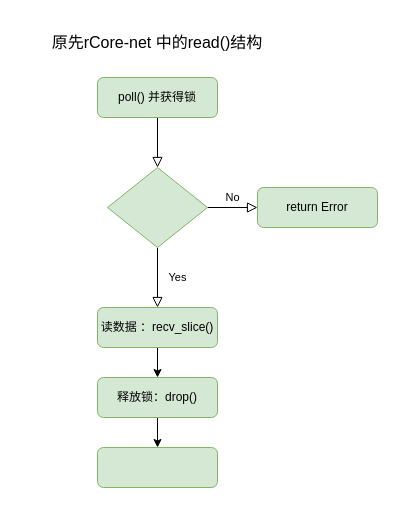
This 395x505 diagram has some shape labels left out. The box of each missing label's shape, as (x1, y1, x2, y2) in pixels:
can_read() ?: (106, 166, 208, 248)
poll() 并返回值: (96, 446, 218, 488)
